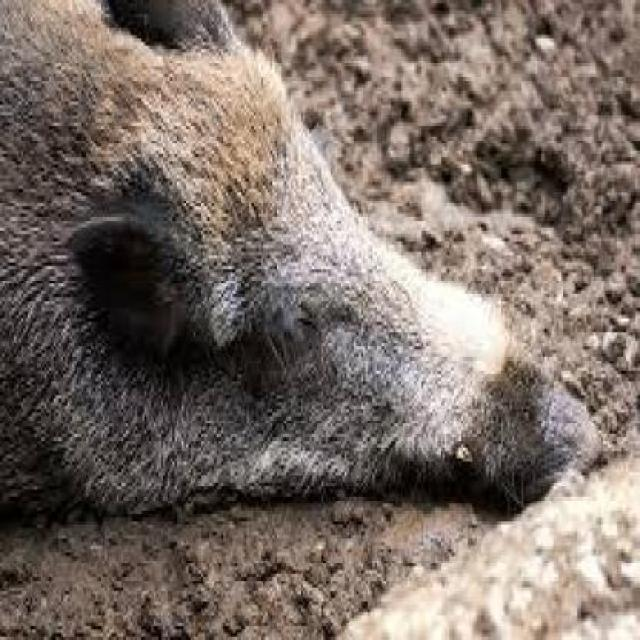wildboar: (0, 0, 606, 534)
